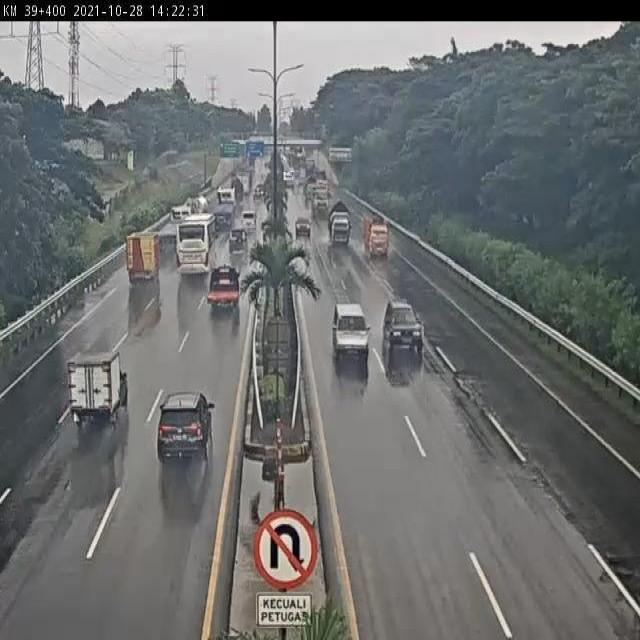bus-l-: (175, 212, 221, 276)
car: (68, 347, 130, 429), (158, 394, 211, 458), (332, 300, 371, 360), (384, 299, 424, 349), (225, 227, 251, 257), (293, 208, 314, 237), (239, 206, 259, 233)
truck-l-: (154, 198, 191, 234), (213, 186, 240, 226)
truck-m-: (182, 190, 211, 218)
truck-s-: (127, 230, 161, 282), (206, 266, 242, 310), (359, 212, 391, 261), (324, 199, 354, 245)
